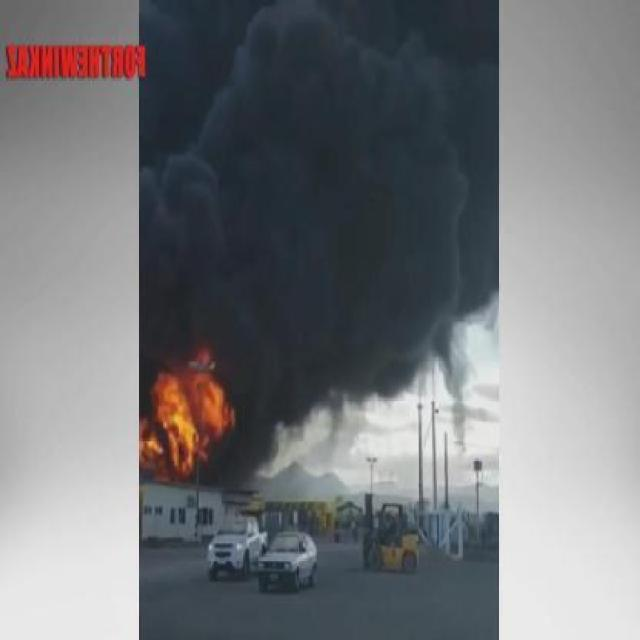Fire: (140, 346, 245, 486)
Smoke: (143, 0, 499, 477)
